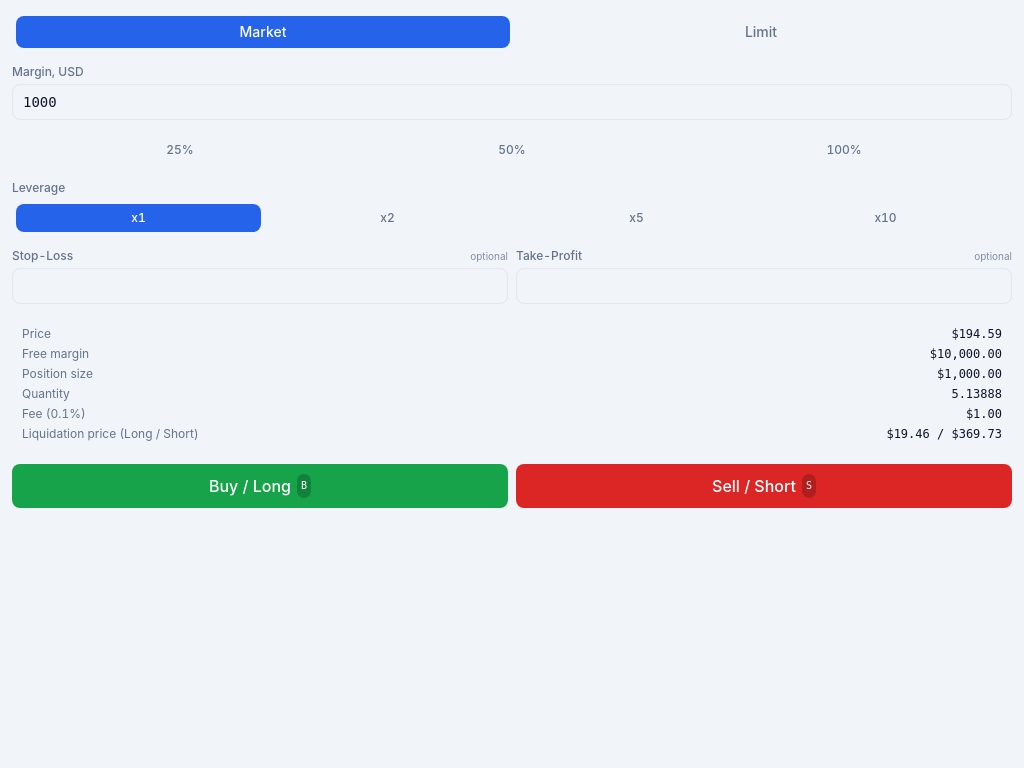
it: <OrderPanel /> › shows a translated error when funds are insufficient
Replace the text in the field labelled "Margin, USD" with "999999" at (512, 102), box [12,84,1012,120]
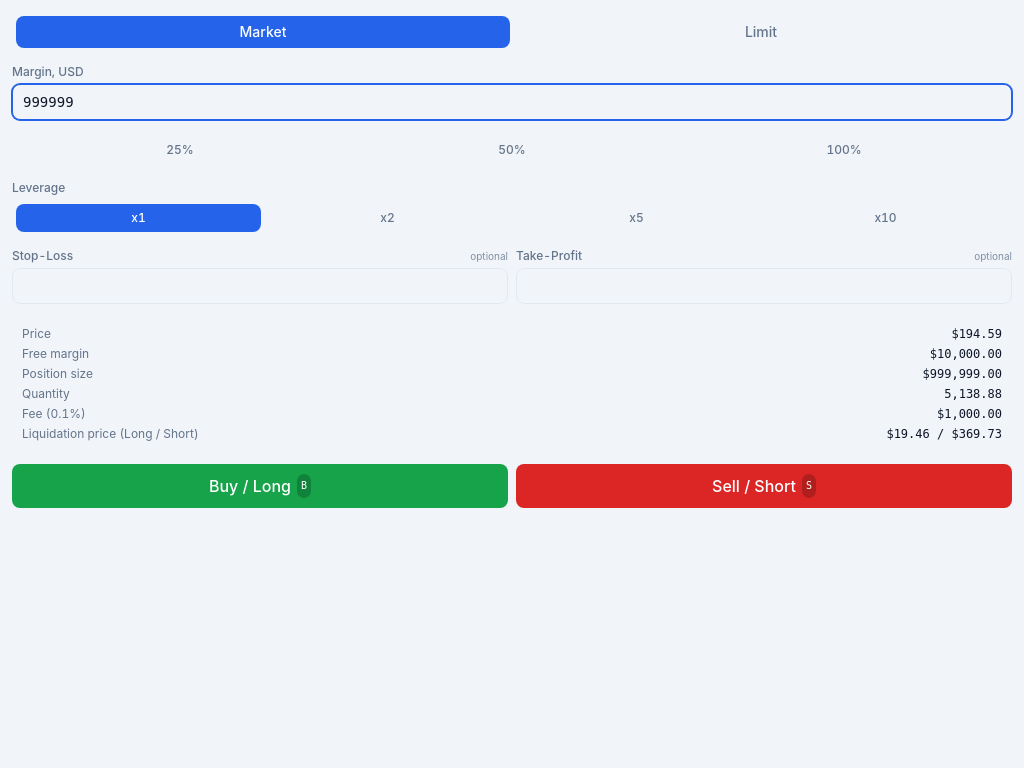
Click the button "Buy / Long B".
click(260, 486)  # box [12,464,508,508]
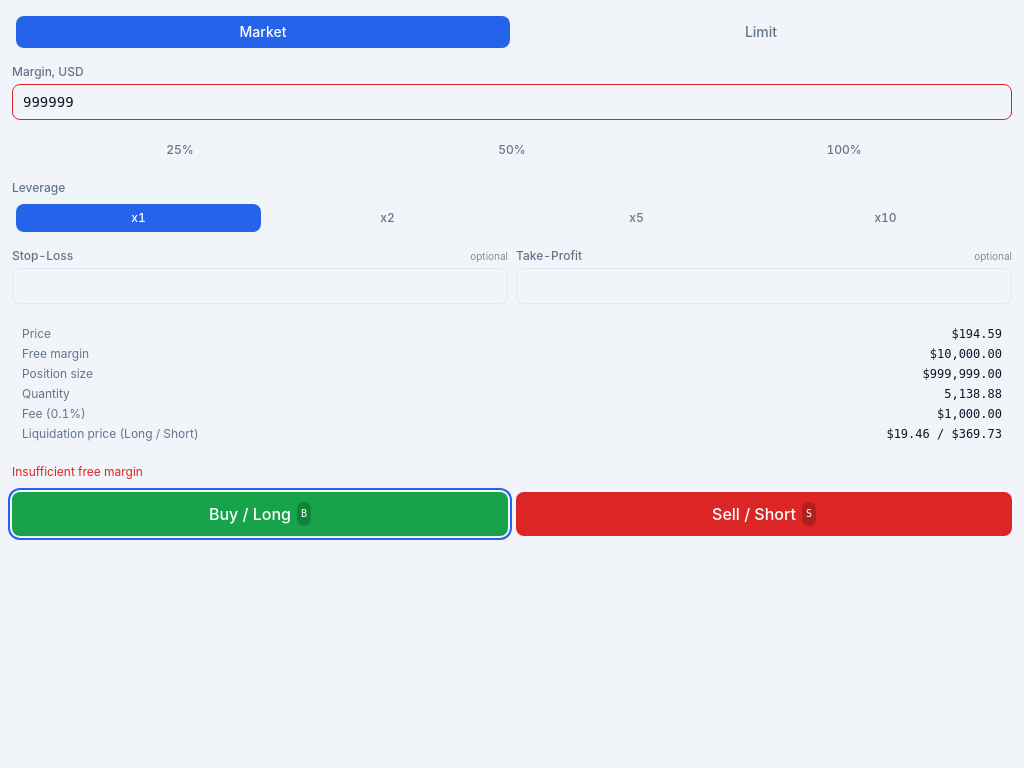
Expected: the message reads "Insufficient free margin", [12,464,143,479]
